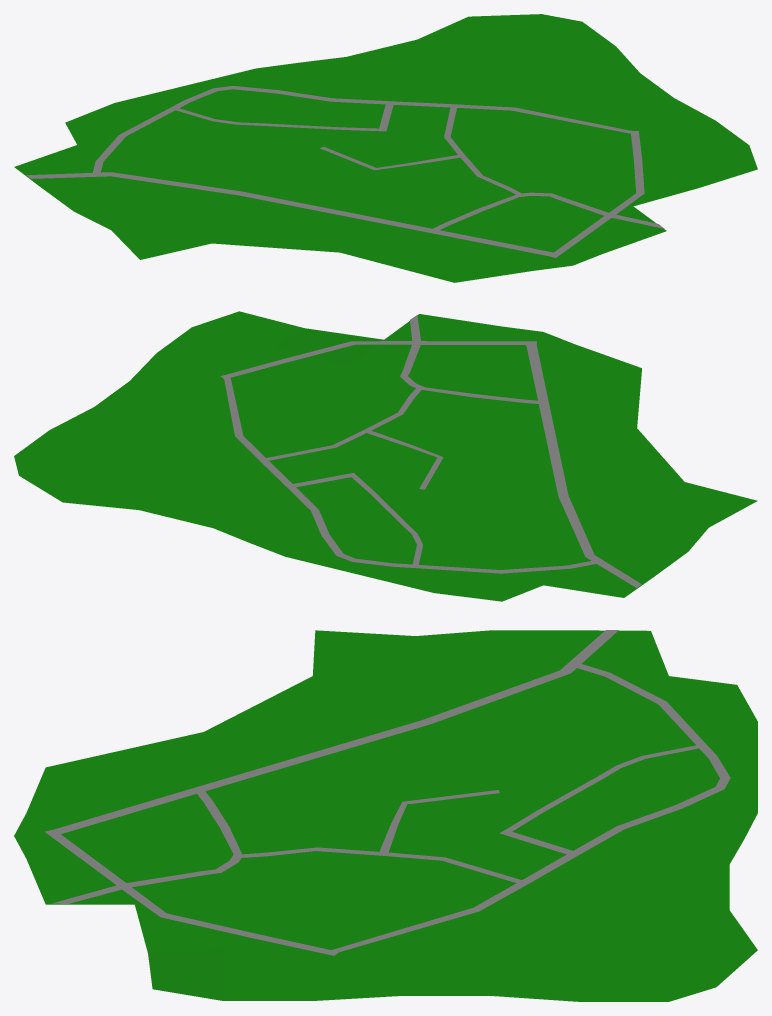
Rendered from Forserum.fbx.
3 renders of one model, top to bottom at view 1: azimuth 30°, elevation 25°; view 2: azimuth 150°, elevation 25°; view 3: azimuth 270°, elevation 25°, orthographic. The views are drawn at different scales.
Visible parts, largest first — view 1: Plane, Plane.001; view 2: Plane, Plane.001; view 3: Plane, Plane.001.
Boxes of the visible parts, bbox=[...] form: Plane: bbox=[14, 14, 757, 282]; Plane.001: bbox=[26, 86, 664, 257]; Plane: bbox=[14, 311, 757, 601]; Plane.001: bbox=[220, 315, 641, 587]; Plane: bbox=[14, 630, 757, 1001]; Plane.001: bbox=[45, 630, 730, 955].
Bounding box in the file's own units: 16848 × 88.67 × 14255.
